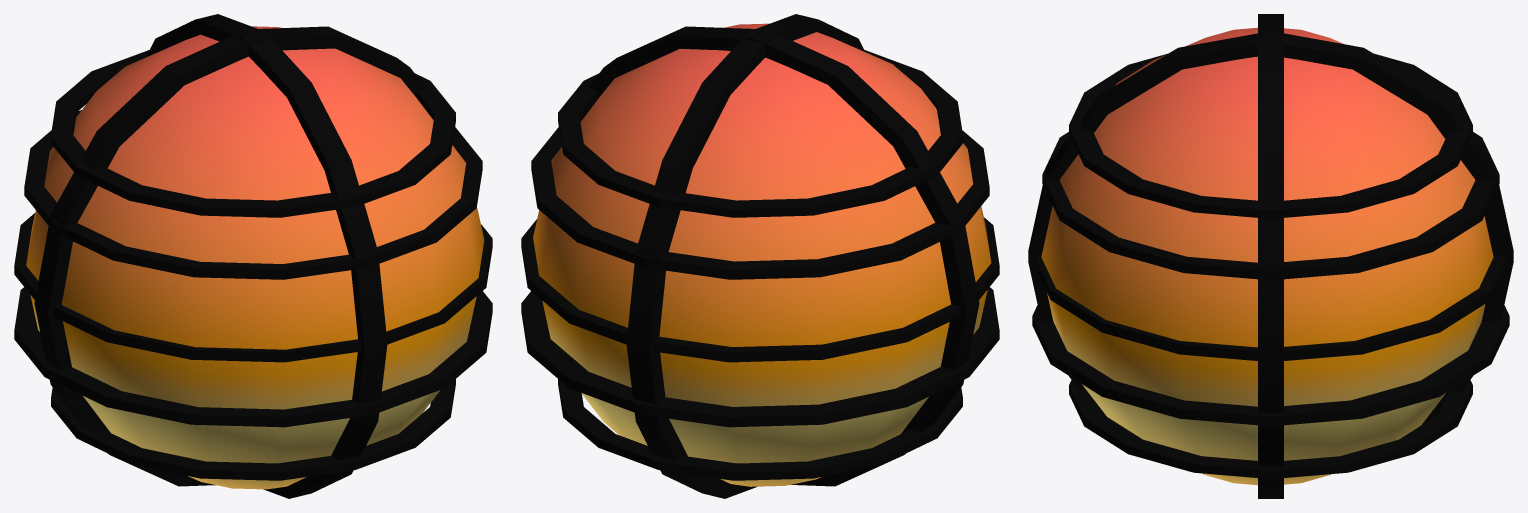
File: LanternOrnge.fbx
3 views of the same model, side by side, from view 1: azimuth 30°, elevation 25°; view 2: azimuth 150°, elevation 25°; view 3: azimuth 270°, elevation 25° (orthographic).
Visible parts, largest first — view 1: Sphere; view 2: Sphere; view 3: Sphere.
Boxes of the visible parts, left/top/right/bottom form: Sphere: left=14, top=14, right=492, bottom=498; Sphere: left=521, top=14, right=999, bottom=498; Sphere: left=1028, top=14, right=1513, bottom=498.
Bounding box in the file's own units: 211 × 211 × 211.
